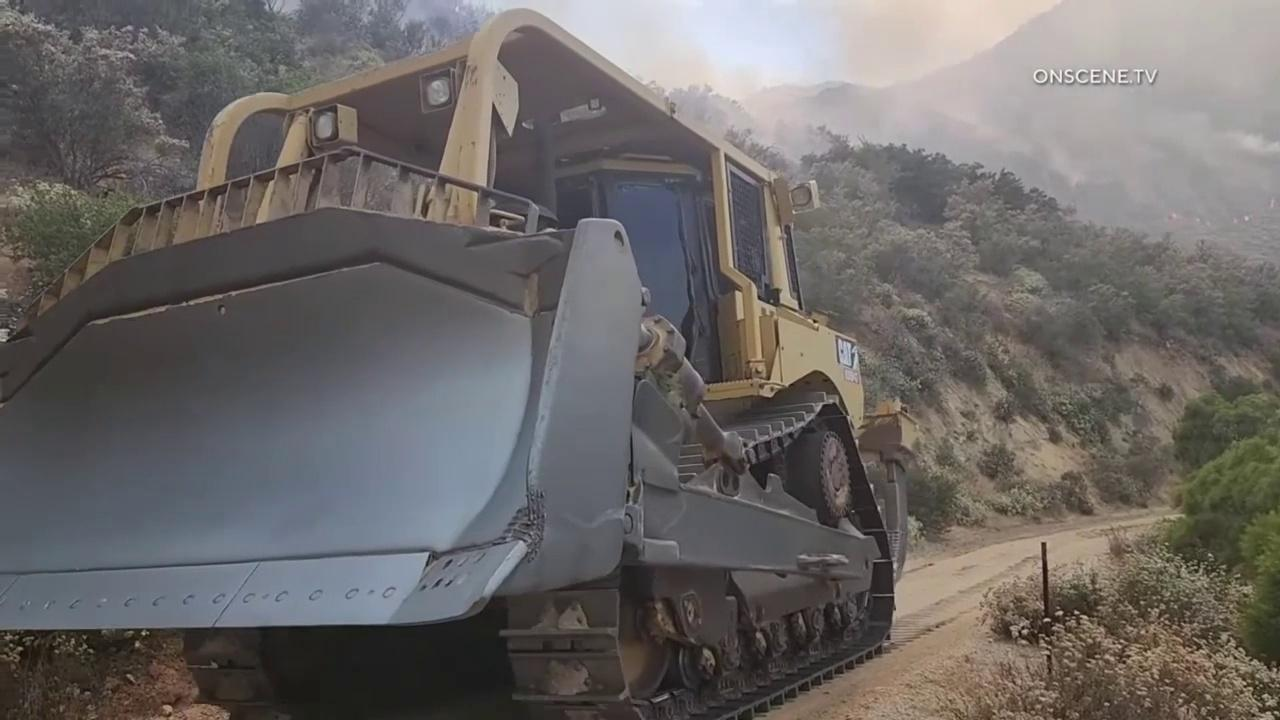fire: (1169, 212, 1180, 221), (1266, 198, 1275, 208), (1232, 216, 1240, 225), (1243, 215, 1251, 222), (1195, 218, 1202, 223)
smoke: (244, 0, 1280, 273)
